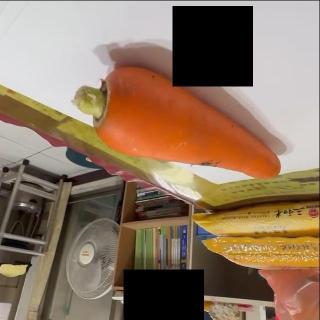carrot: (74, 64, 280, 180)
